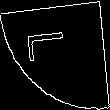L_E: (31, 37, 79, 73)
